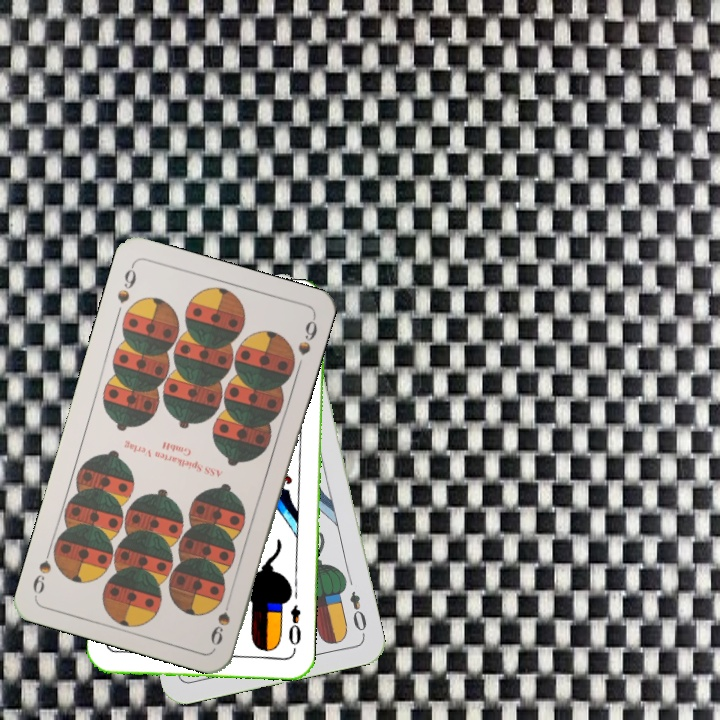EO: (346, 587, 369, 639), (285, 601, 304, 648)
S9: (206, 591, 234, 648), (113, 260, 139, 306)
